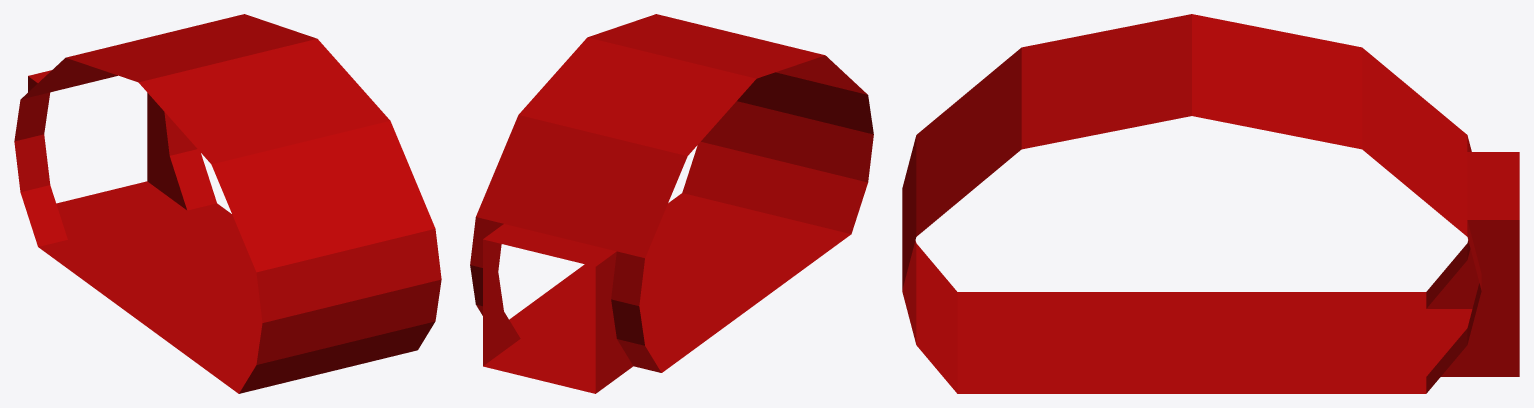
The model's file is coll_tunnel_doorway.fbx.
The picture shows the model from 3 angles, left to right: view 1: azimuth 30°, elevation 25°; view 2: azimuth 150°, elevation 25°; view 3: azimuth 270°, elevation 25°; orthographic projection. The views are drawn at different scales.
Visible parts, largest first — view 1: coll_tunnel_doorway; view 2: coll_tunnel_doorway; view 3: coll_tunnel_doorway.
Part boxes in pixels (bbox=[...]): coll_tunnel_doorway: bbox=[14, 14, 441, 393]; coll_tunnel_doorway: bbox=[470, 14, 873, 393]; coll_tunnel_doorway: bbox=[902, 14, 1519, 393].
Bounding box in the file's own units: 10 × 12.7 × 25.58.
